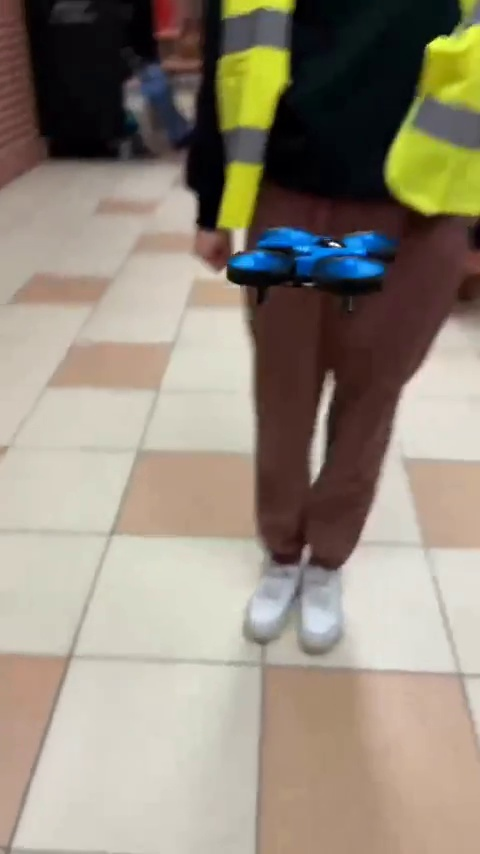drone: (218, 222, 406, 309)
